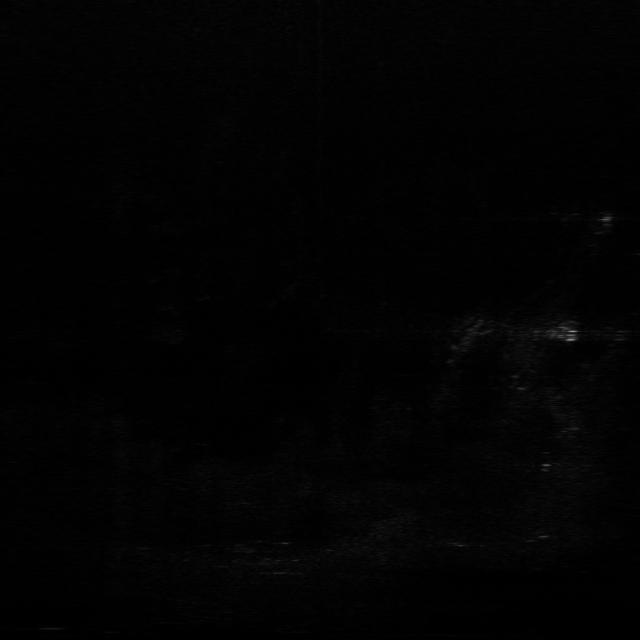rov: (544, 320, 582, 346)
